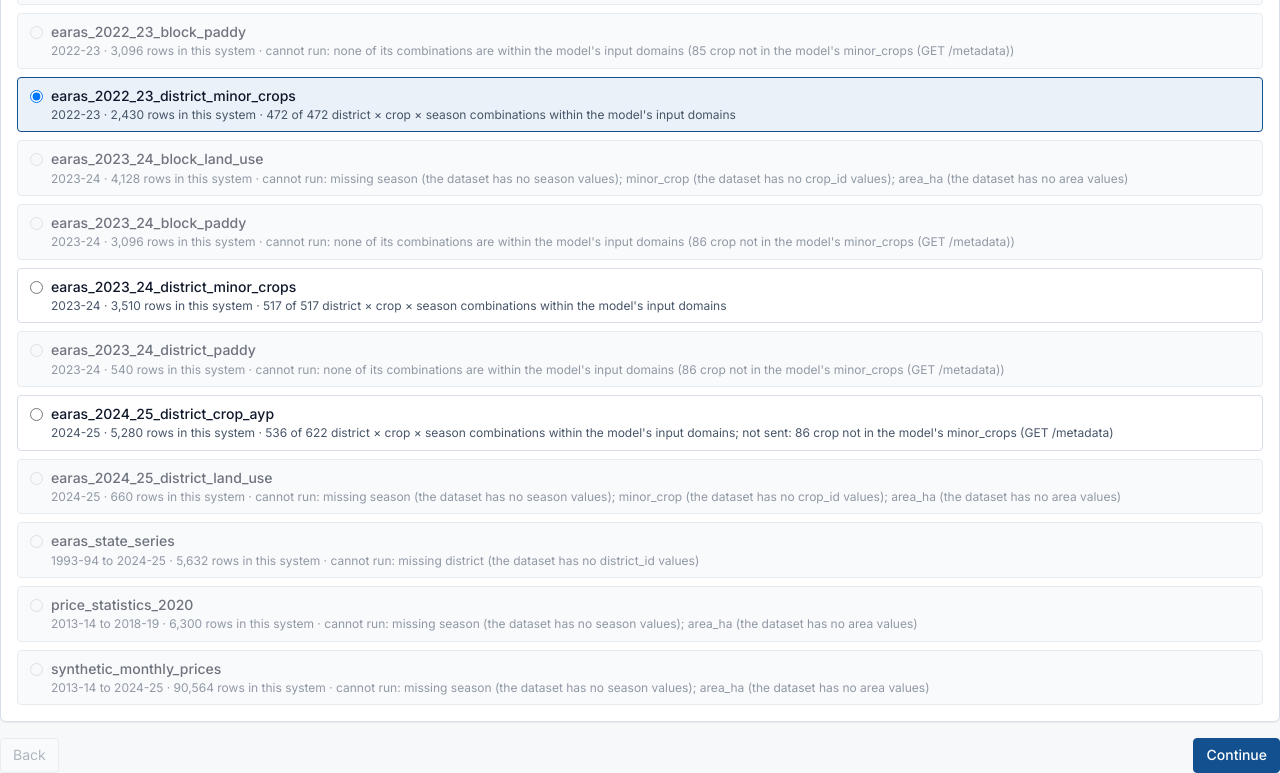
Test: Sandbox (RFP areas 6-7) › shows the use case read-only and the model configuration with its sources
The width and height of the screenshot is (1280, 773).
(page scrolled)
Click the button "Continue". click: (1237, 756)
box: 1194,738 -> 1279,772
(page scrolled)
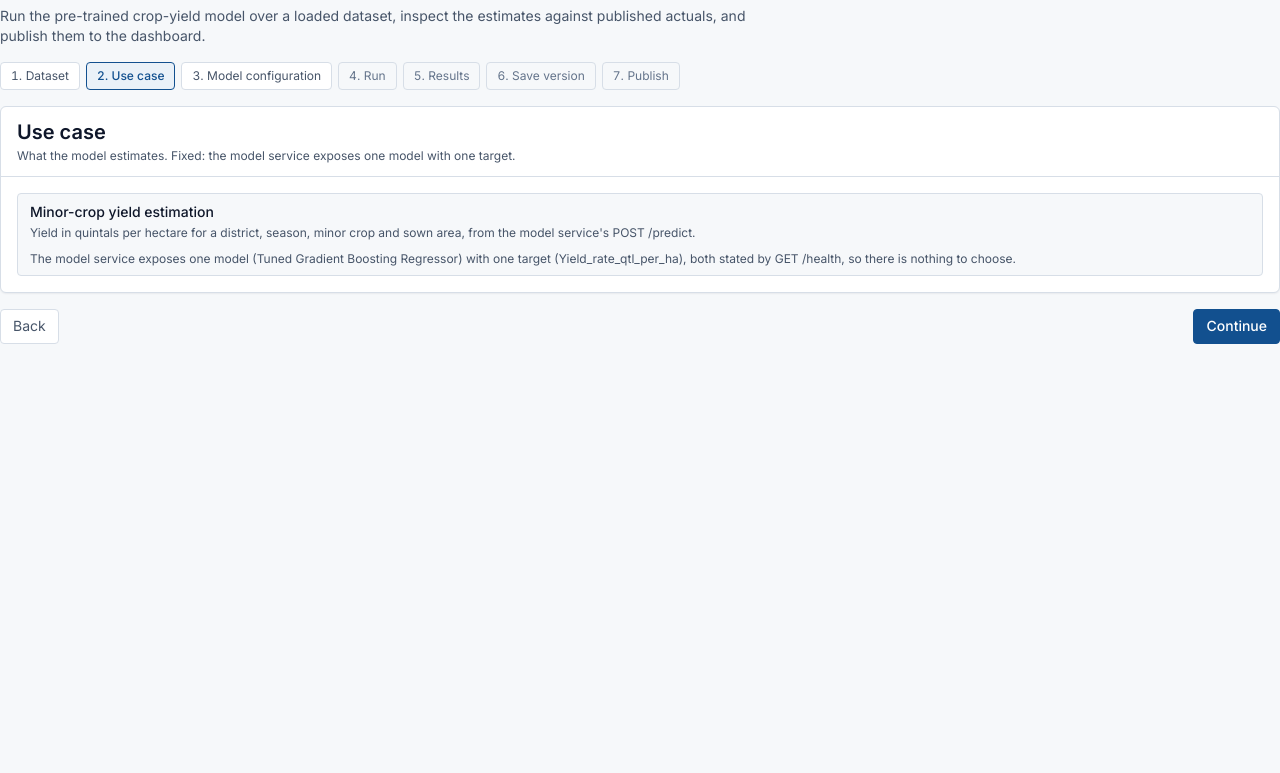
expect the text "one model (Tuned Gradient Boosting Regressor)" is shown: met, box 30,251 -> 1016,266
Click the button "Continue". click: (1237, 326)
box: 1194,309 -> 1279,344
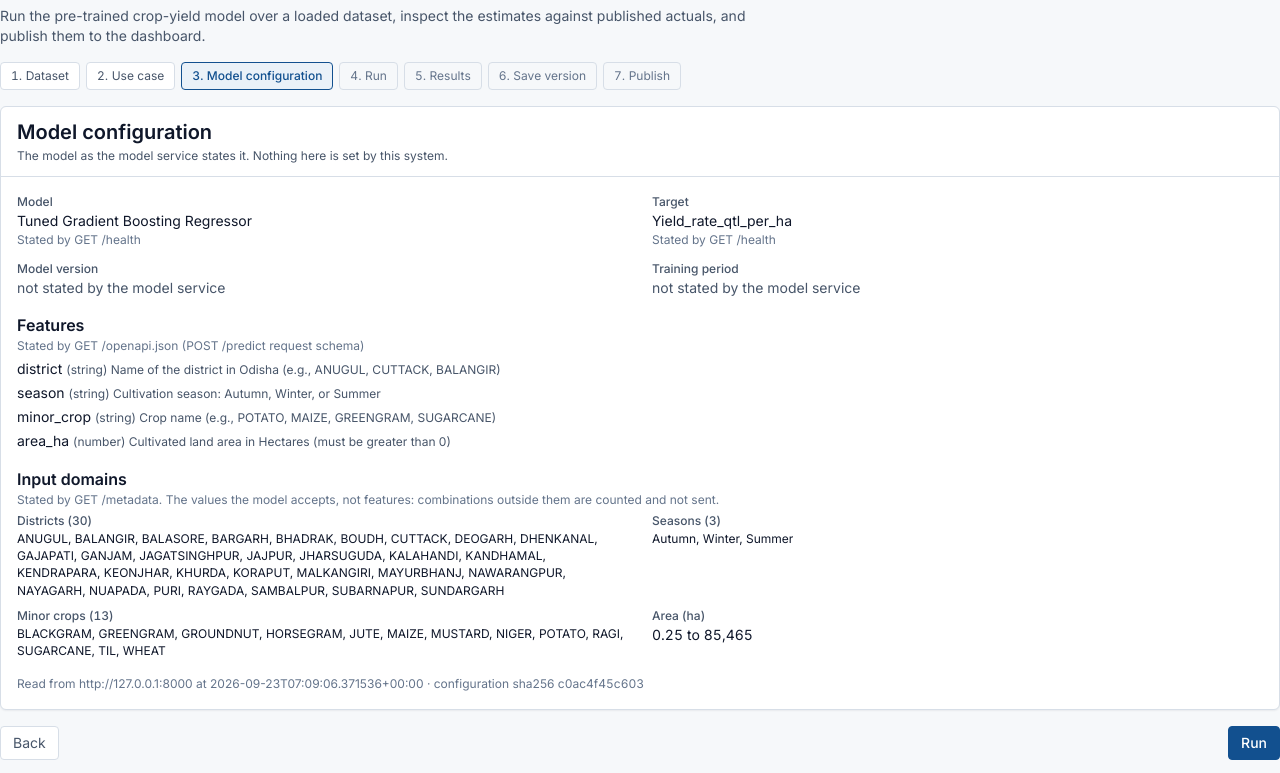
expect the text "Yield_rate_qtl_per_ha" is shown: met, box 652,212 -> 792,229
expect the text "Model version" shows "not stated by the model service": met, box 17,279 -> 226,296
expect the text "Training period" shows "not stated by the model service": met, box 652,279 -> 860,296
